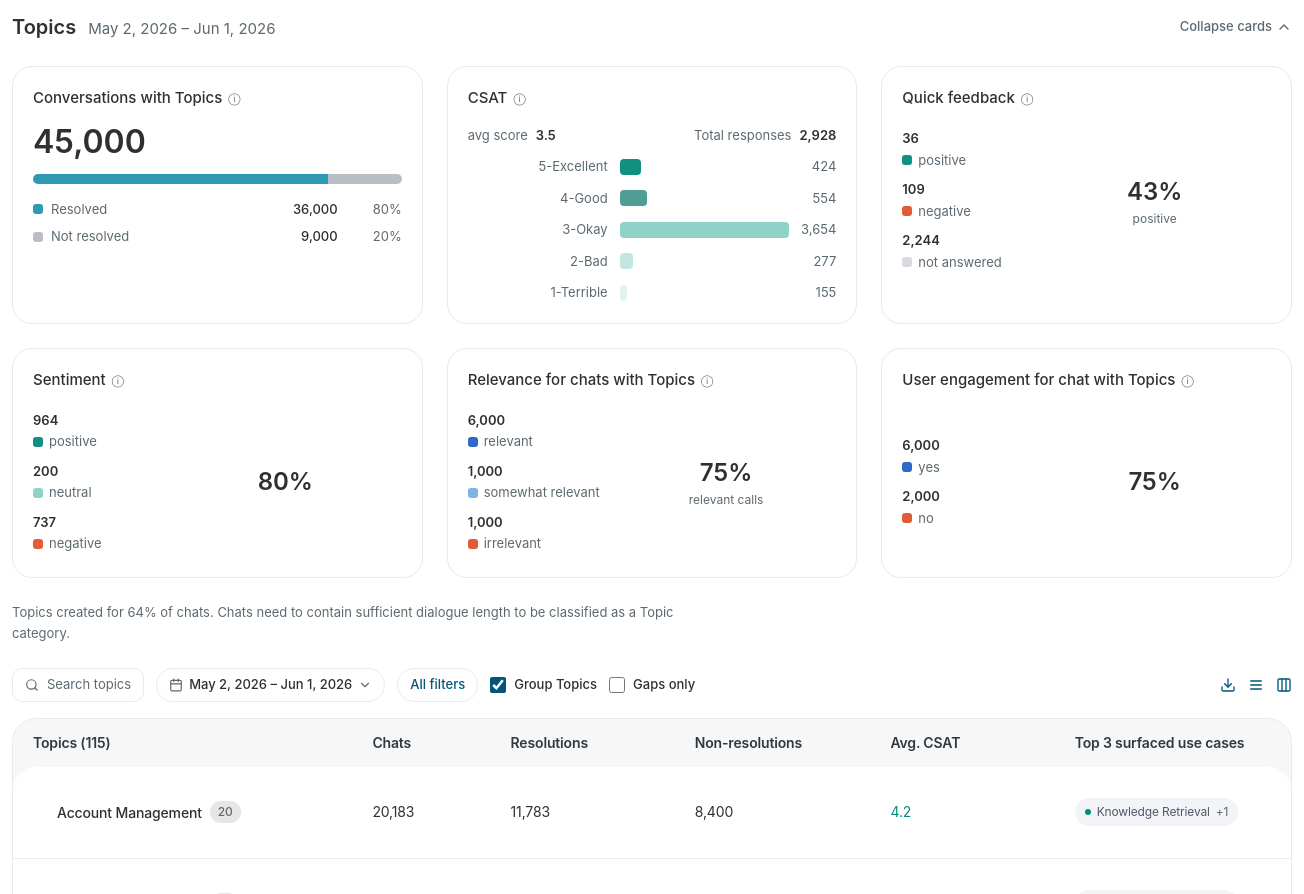
Test: AoTopicsView › hides and restores the card grid
The width and height of the screenshot is (1304, 894).
Step 1. Click the button "Collapse cards" → (1236, 27), box [1180,17,1292,37]
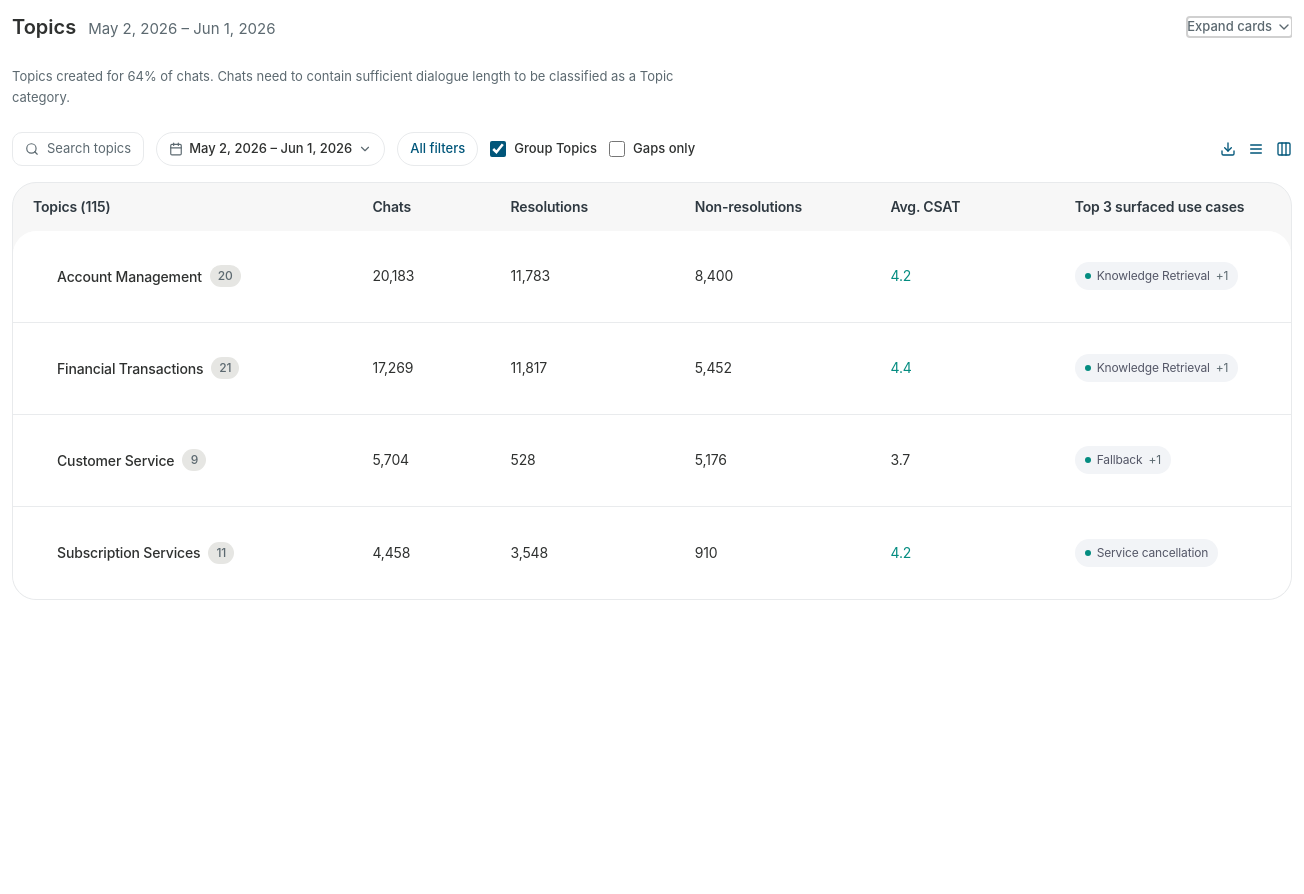
Now the heading "Sentiment" is gone
Step 2. Click the button "Expand cards" → (1240, 27), box [1187,17,1292,37]
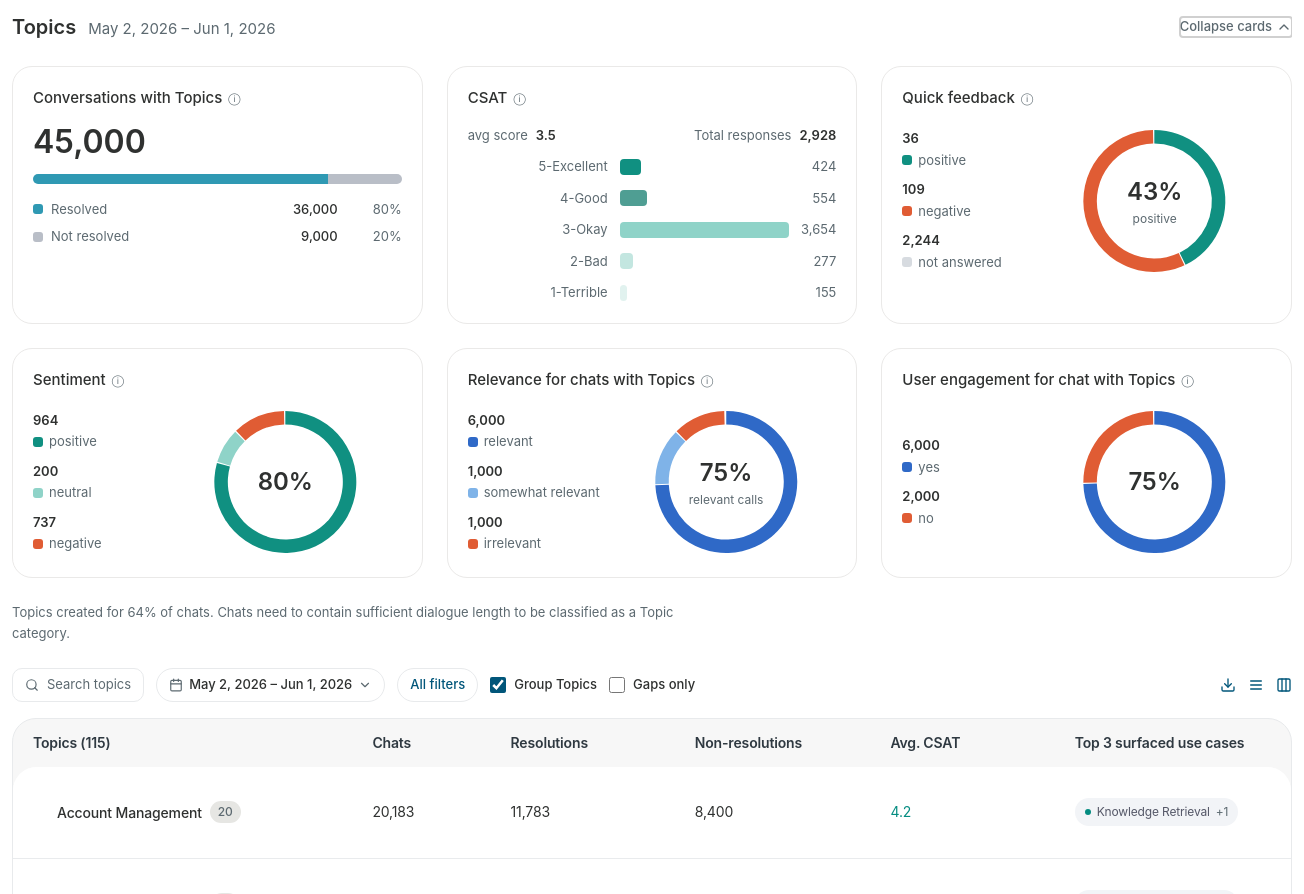
Now the heading "Sentiment ⓘ" is shown, box [33,370,124,388]
